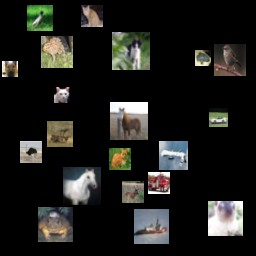airplane: (159, 141, 188, 170)
automobile: (209, 108, 228, 127)
bird: (214, 44, 246, 76), (27, 5, 53, 31), (20, 141, 42, 163)
cat: (112, 32, 150, 70), (208, 201, 243, 236), (109, 148, 131, 170), (81, 5, 103, 27), (54, 87, 70, 103)
deer: (47, 121, 73, 147), (122, 181, 144, 203)
dog: (2, 61, 18, 77)
frog: (38, 207, 73, 242), (41, 36, 73, 68), (195, 50, 211, 66)
ship: (134, 209, 169, 244)
